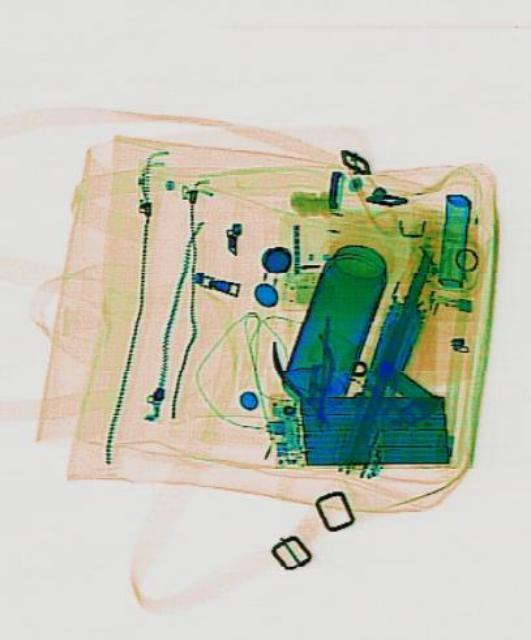Pliers: (268, 324, 349, 440)
